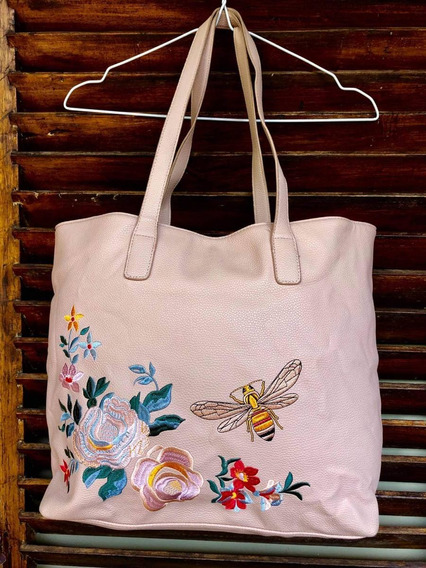cartera: (39, 8, 382, 541)
